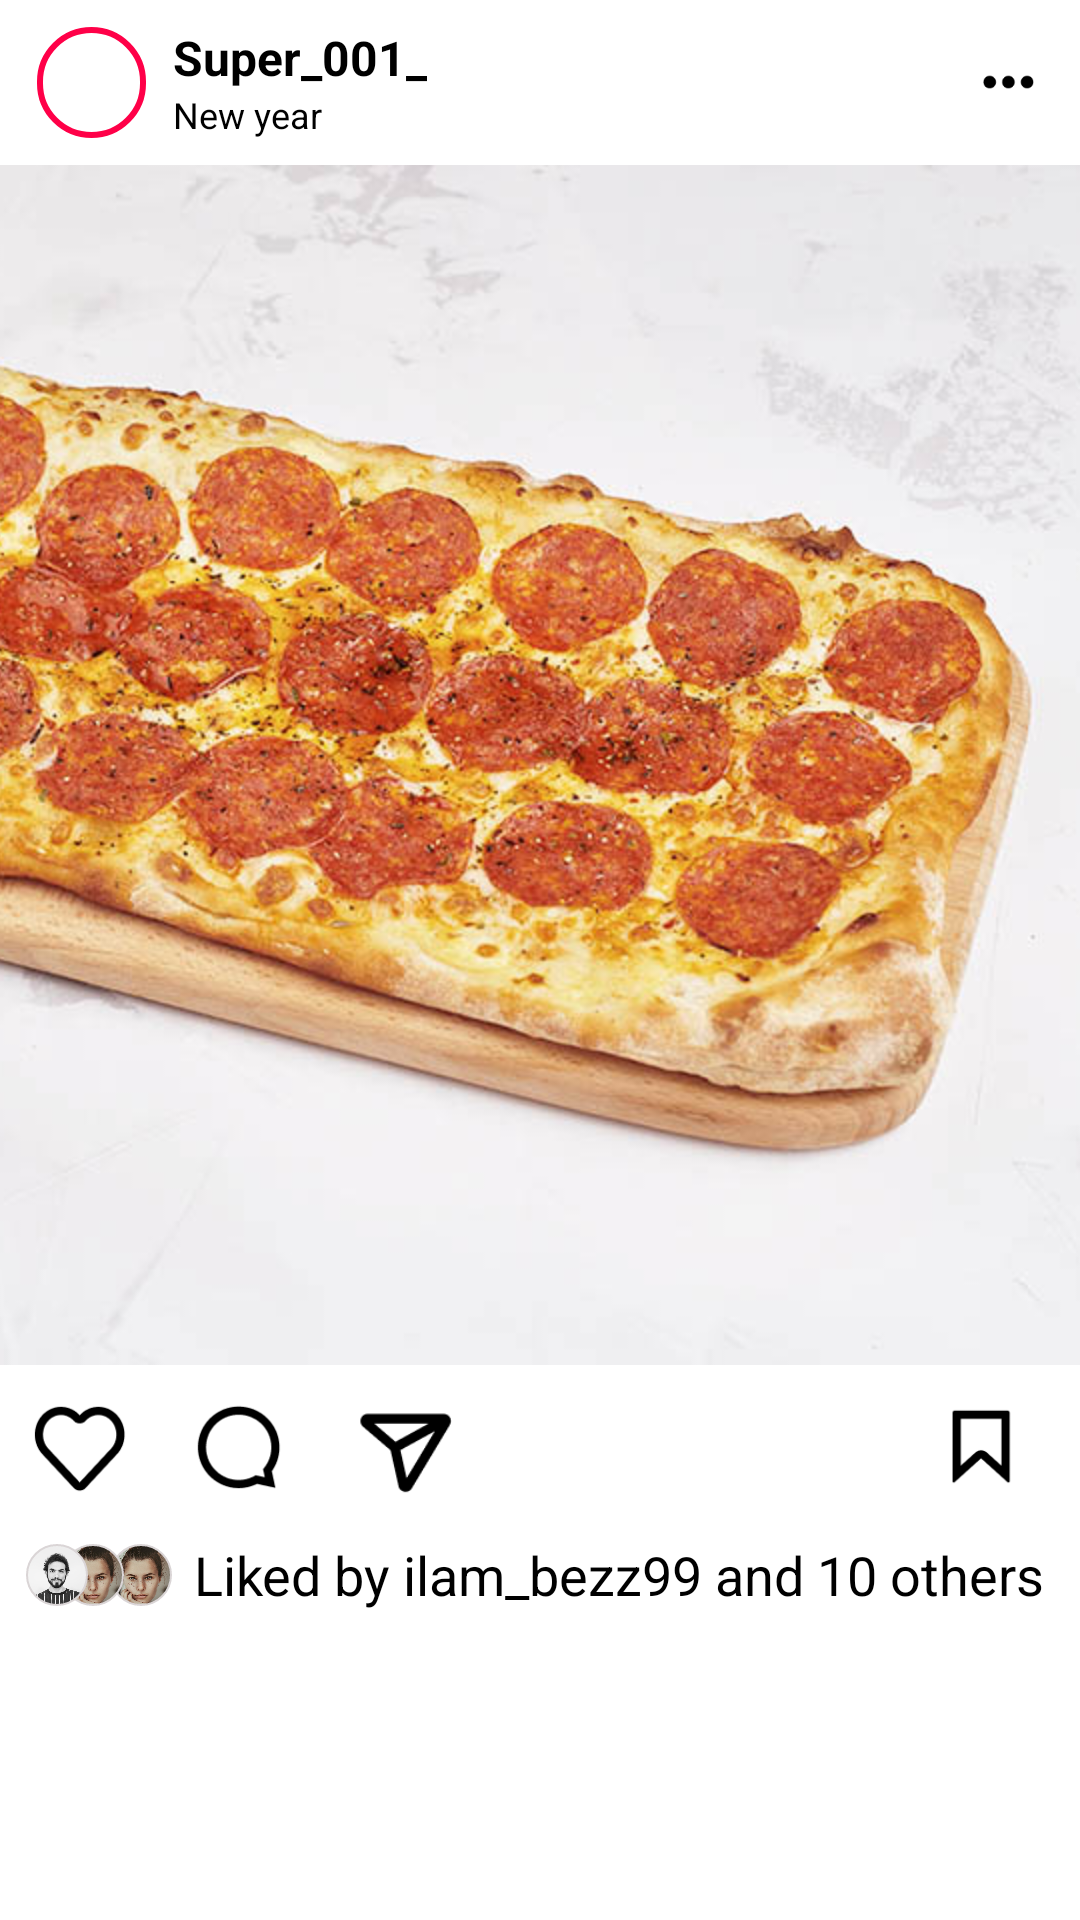

Icons on this 1080w x 1920h Android screen, each with its box as (x1, y1, x2, y2):
bookmark: (952, 1410, 1011, 1483)
comment: (197, 1406, 280, 1489)
more: (983, 75, 1034, 89)
share: (360, 1413, 451, 1493)
